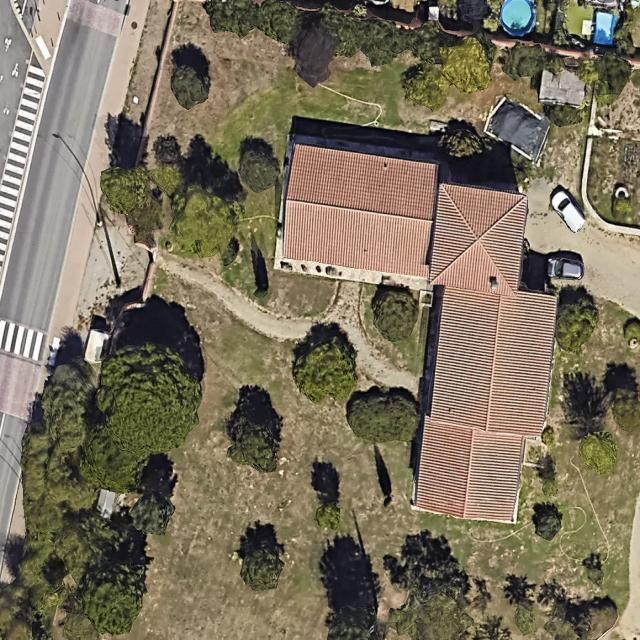maison: (412, 282, 559, 526), (276, 143, 444, 278), (429, 183, 527, 296)
